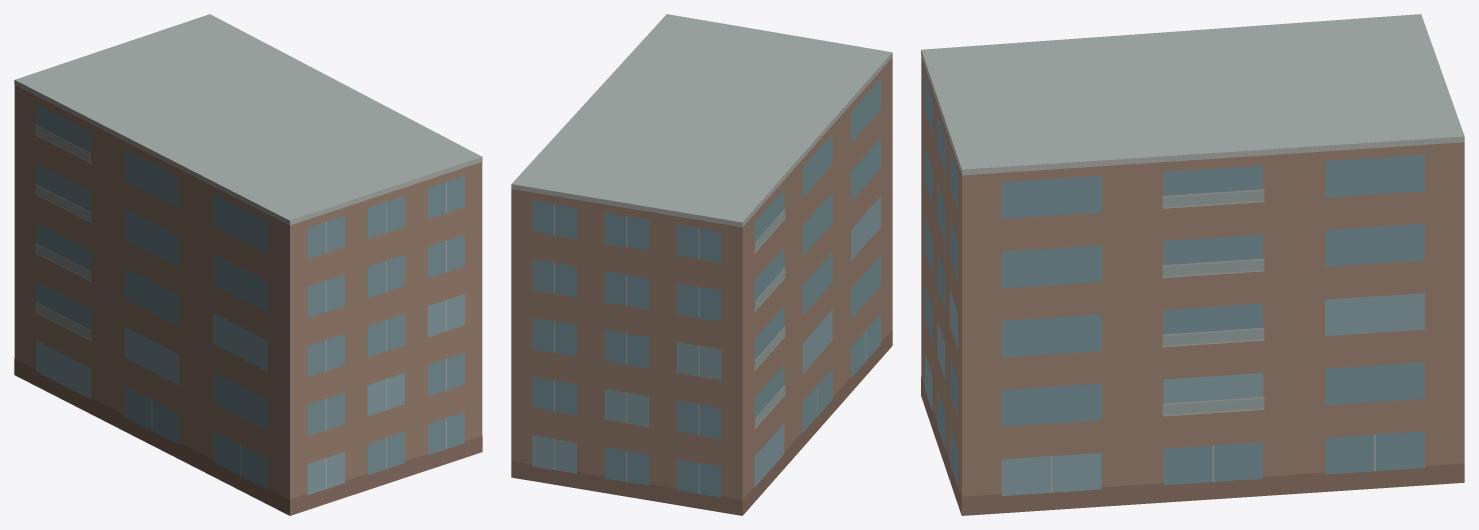
The model's file is survey-upis-32713480.glb.
The picture shows the model from 3 angles, left to right: view 1: azimuth 30°, elevation 25°; view 2: azimuth 150°, elevation 25°; view 3: azimuth 270°, elevation 25°; orthographic projection. The views are drawn at different scales.
Visible parts, largest first — view 1: survey-upis-32713480.tmp; view 2: survey-upis-32713480.tmp; view 3: survey-upis-32713480.tmp.
Part boxes in pixels (x1,y1,x2,y2): survey-upis-32713480.tmp: [14, 14, 482, 515]; survey-upis-32713480.tmp: [511, 14, 892, 515]; survey-upis-32713480.tmp: [921, 14, 1464, 515].
Size of the model in its own units: 14.19 by 14.7 by 20.93.
